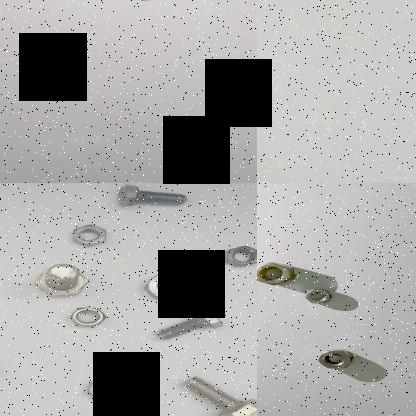Bolts: (172, 368, 257, 416), (151, 309, 233, 345), (32, 261, 104, 300), (113, 183, 200, 211)
NUTS: (137, 270, 208, 304), (82, 374, 131, 404), (298, 346, 354, 372), (65, 223, 119, 249), (67, 303, 109, 335), (215, 244, 257, 268), (257, 262, 296, 286), (302, 287, 330, 307)
